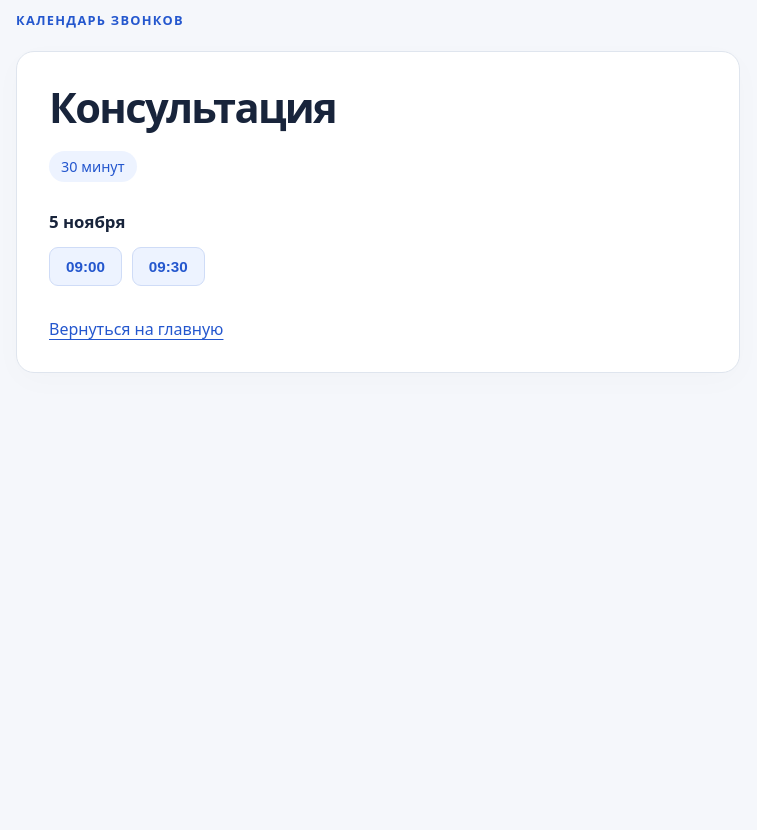
it: Путь гостя › показывает понятное сообщение при конфликте слота
Click the button "09:00" at coordinates (85, 267), box [49,248,122,286]
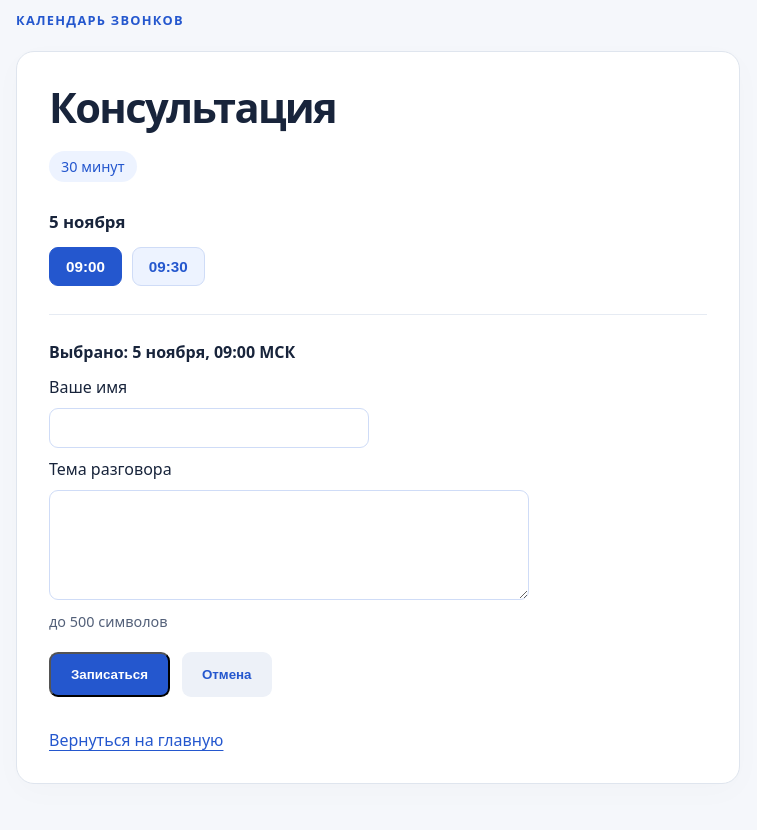
Type "Аня" into the field labelled "Ваше имя" at coordinates (209, 428), box [49,408,369,448]
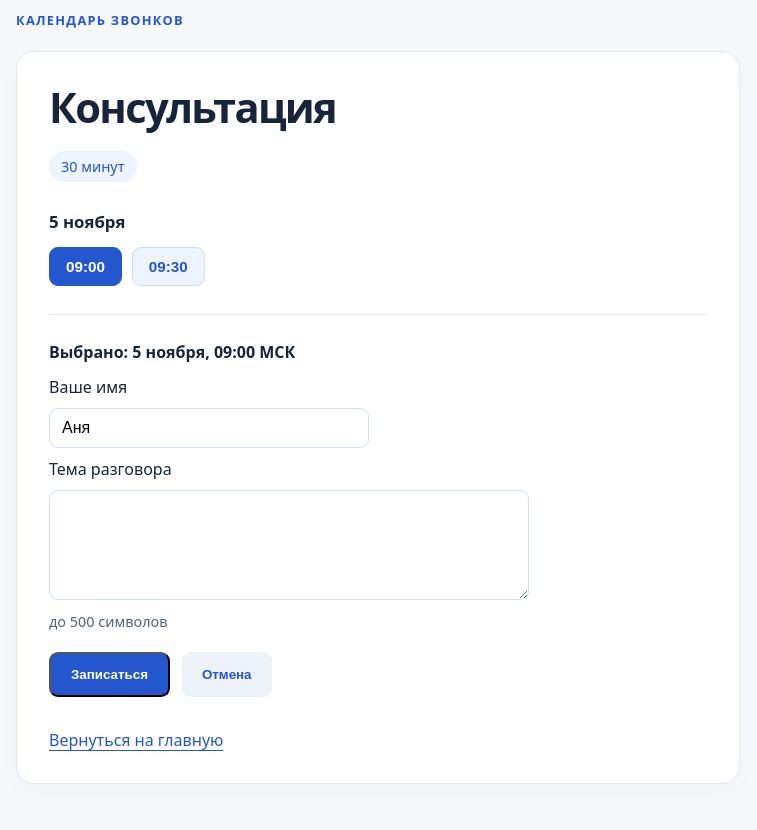
Click the button "Записаться" at coordinates (109, 674), box [49,652,170,697]
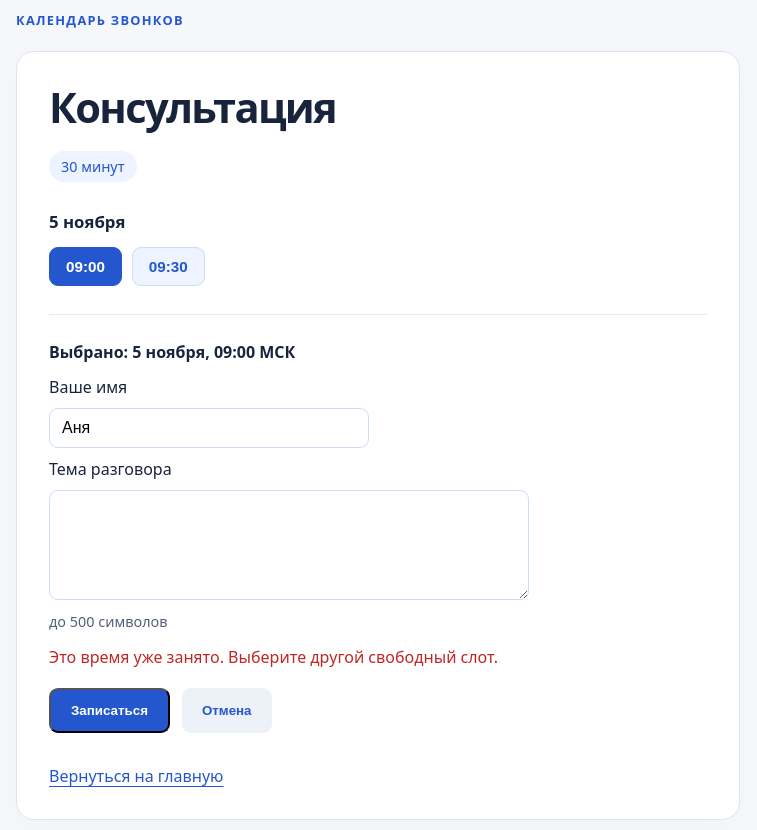
Result: the text "Это время уже занято. Выберите другой свободный слот." is shown at [49,644,498,670]
